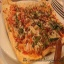pizza: (3, 1, 64, 61)
